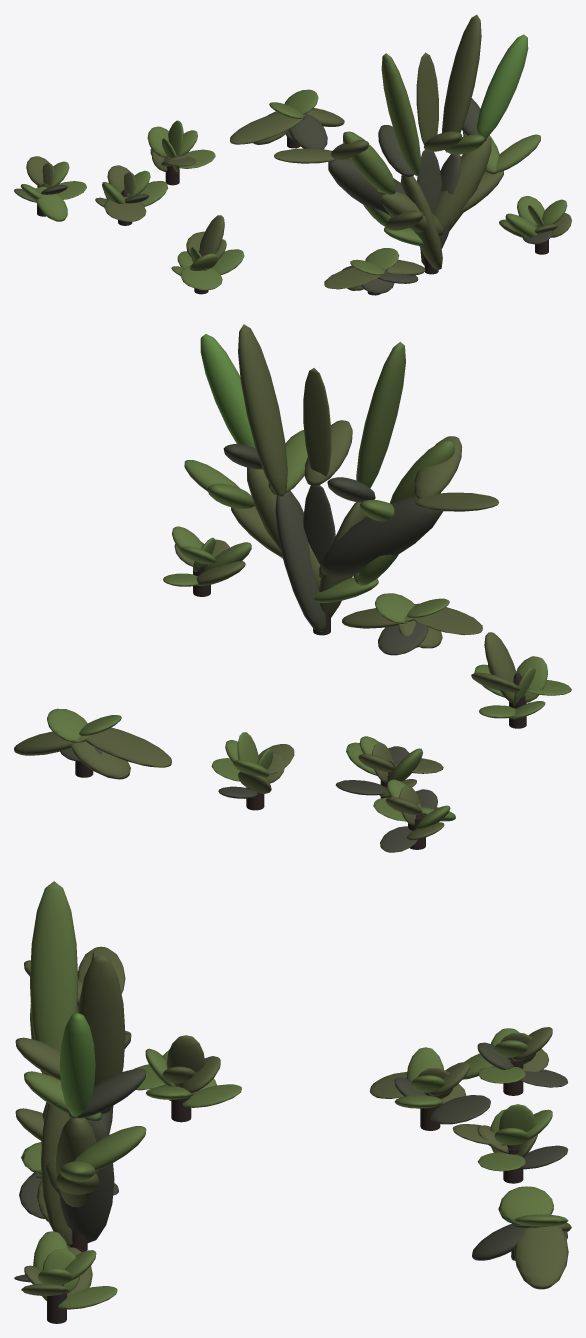
File: CMU3DRMCBusha2.glb
3 renders of one model, top to bottom at view 1: azimuth 30°, elevation 25°; view 2: azimuth 150°, elevation 25°; view 3: azimuth 270°, elevation 25°, orthographic. The views are drawn at different scales.
Parts seen in each view (by area): view 1: main blade 1 section 1, main blade 2 section 1, main blade 0 section 1, main blade 2 section 0, main blade 3 section 1, main blade 5 section 0, main blade 0 section 0, main blade 4 section 1, tuft 3 source leaf 0, main blade 3 section 0, tuft 3 source leaf 4, main blade 4 section 0 (+31 smaller); view 2: main blade 1 section 1, main blade 5 section 0, main blade 0 section 1, main blade 1 section 0, main blade 2 section 1, main blade 3 section 1, tuft 3 source leaf 0, main blade 3 section 0, main blade 2 section 0, main blade 5 depth leaf, main blade 5 section 1, main blade 3 depth leaf (+20 smaller); view 3: main blade 0 section 1, main blade 1 section 1, main blade 2 section 1, tuft 3 source leaf 3, main blade 1 section 0, main blade 0 section 0, main blade 2 section 0, main blade 6 depth leaf, main blade 2 depth leaf, tuft 3 source leaf 6, tuft 1 source leaf 6, tuft 3 source leaf 4 (+23 smaller).
Part boxes in pixels (x1,y1,x2,y2): main blade 1 section 1: (442,14,481,152); main blade 2 section 1: (476,34,528,137); main blade 0 section 1: (381,53,421,176); main blade 2 section 0: (432,137,491,230); main blade 3 section 1: (416,52,438,151); main blade 5 section 0: (328,158,405,216); main blade 0 section 0: (400,175,442,270); main blade 4 section 1: (343,131,395,194); tuft 3 source leaf 0: (230,112,305,144); main blade 3 section 0: (417,149,442,212); tuft 3 source leaf 4: (289,114,327,149); main blade 4 section 0: (381,192,443,236); main blade 1 section 1: (238,324,287,497); main blade 5 section 0: (321,496,442,577); main blade 0 section 1: (356,342,405,488); main blade 1 section 0: (275,490,326,631); main blade 2 section 1: (200,334,255,448); main blade 3 section 1: (303,368,331,476); tuft 3 source leaf 0: (85,727,171,767); main blade 3 section 0: (303,484,335,564); main blade 2 section 0: (247,467,320,588); main blade 5 depth leaf: (414,436,462,498); main blade 5 section 1: (415,492,498,511); main blade 3 depth leaf: (304,420,352,485); main blade 0 section 1: (30,881,78,1075); main blade 1 section 1: (78,954,125,1115); main blade 2 section 1: (59,1013,95,1117); tuft 3 source leaf 3: (514,1225,568,1289); main blade 1 section 0: (58,1121,114,1242); main blade 0 section 0: (41,1104,72,1246); main blade 2 section 0: (55,1117,98,1207); main blade 6 depth leaf: (73,1126,146,1171); main blade 2 depth leaf: (68,1068,146,1118); tuft 3 source leaf 6: (499,1186,553,1222); tuft 1 source leaf 6: (431,1095,490,1124); tuft 3 source leaf 4: (472,1223,527,1260).
Bounding box in the file's own units: 0.9247 × 0.5515 × 0.8404.
